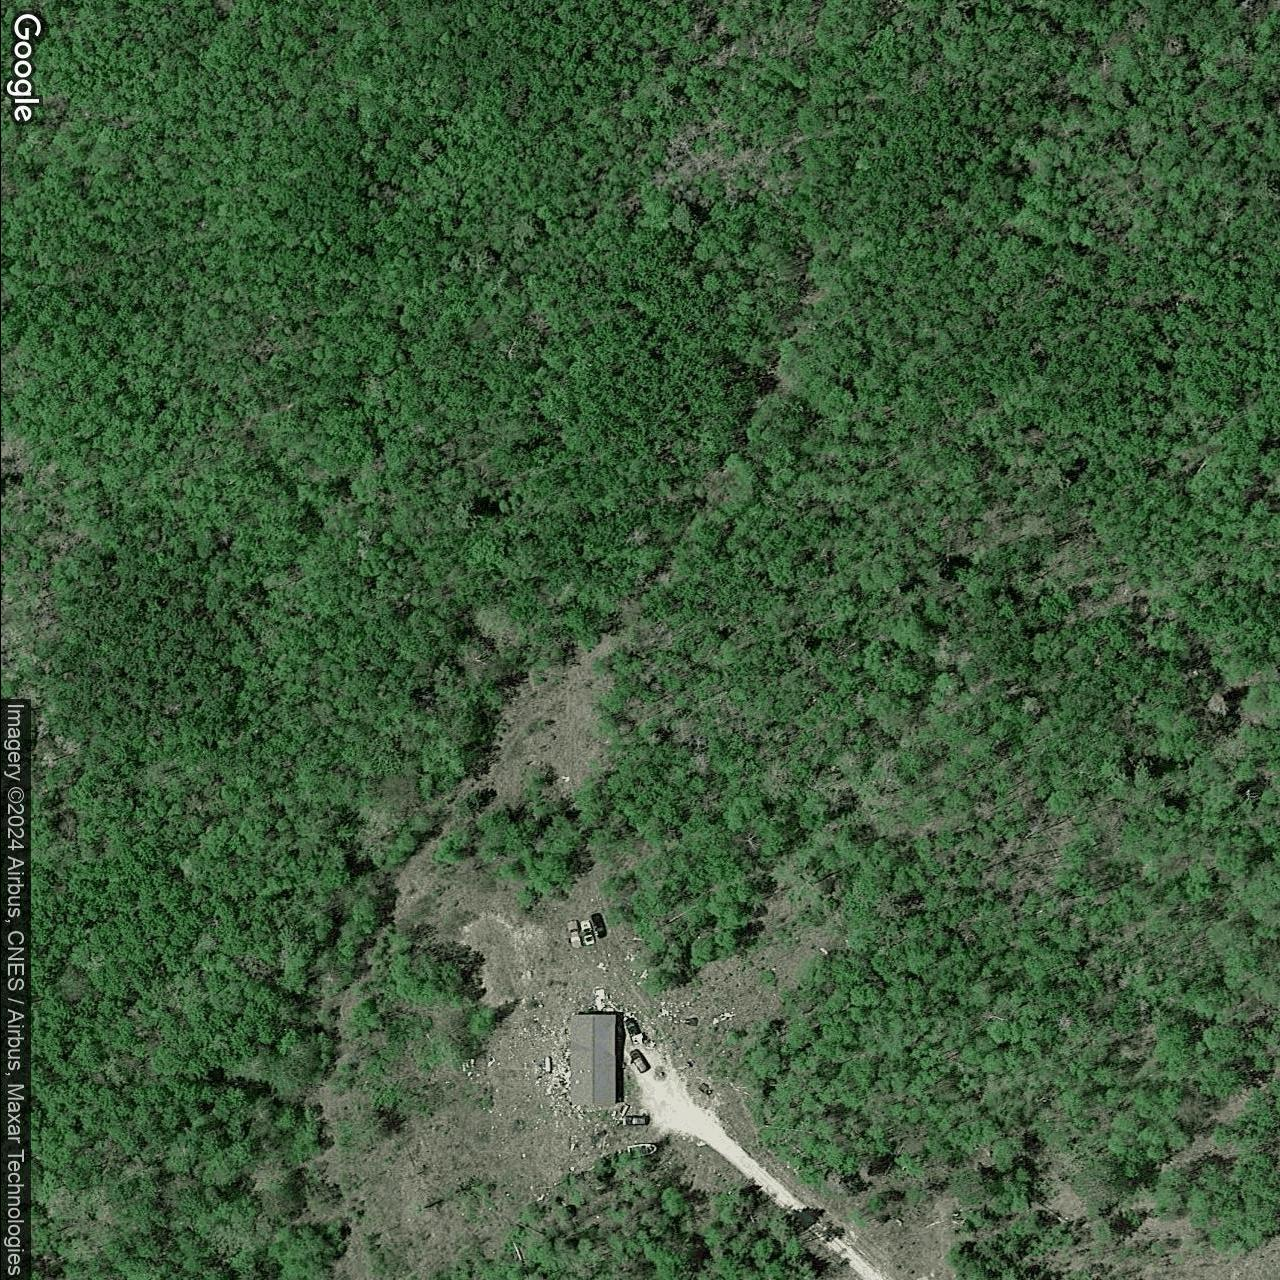House: (567, 1013, 617, 1108)
Propane: (543, 1055, 551, 1076)
